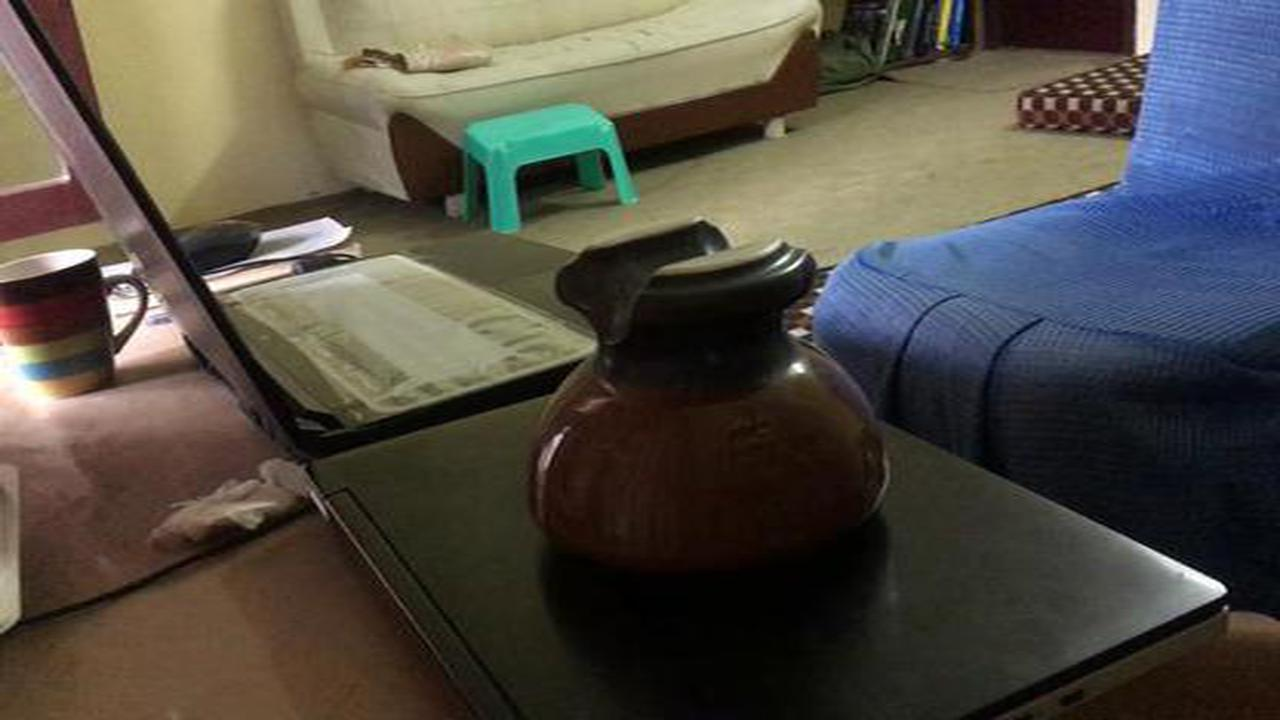insulator_pin: (496, 210, 917, 610)
